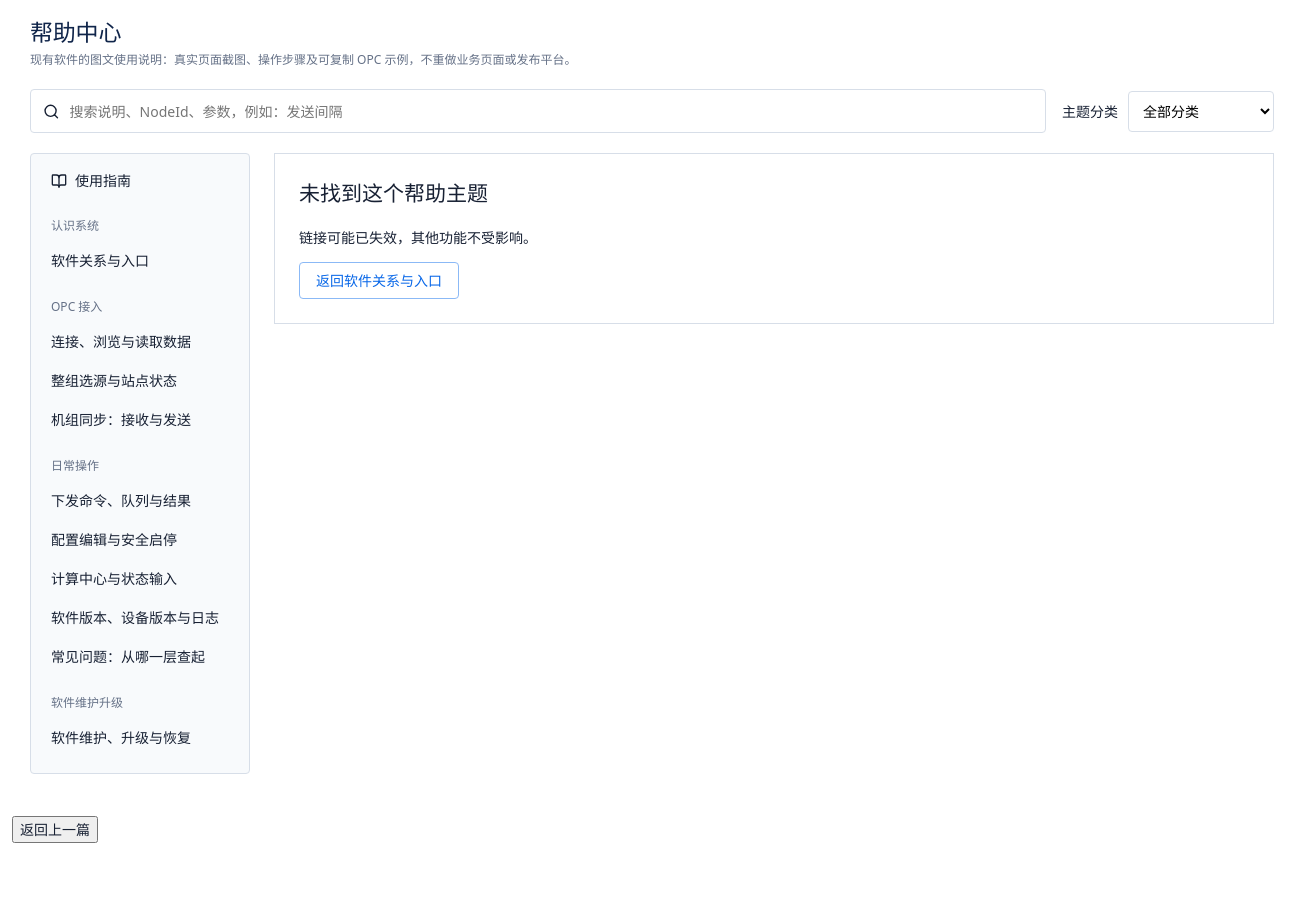
handles stale topic links without silently showing the wrong article
This screenshot has width=1292, height=900.
Expected: the heading "未找到这个帮助主题" is shown, [299,179,488,207]
Type "<img src=x onerror=alert(1)>" into the search field at (551, 111), box [70,90,1033,132]
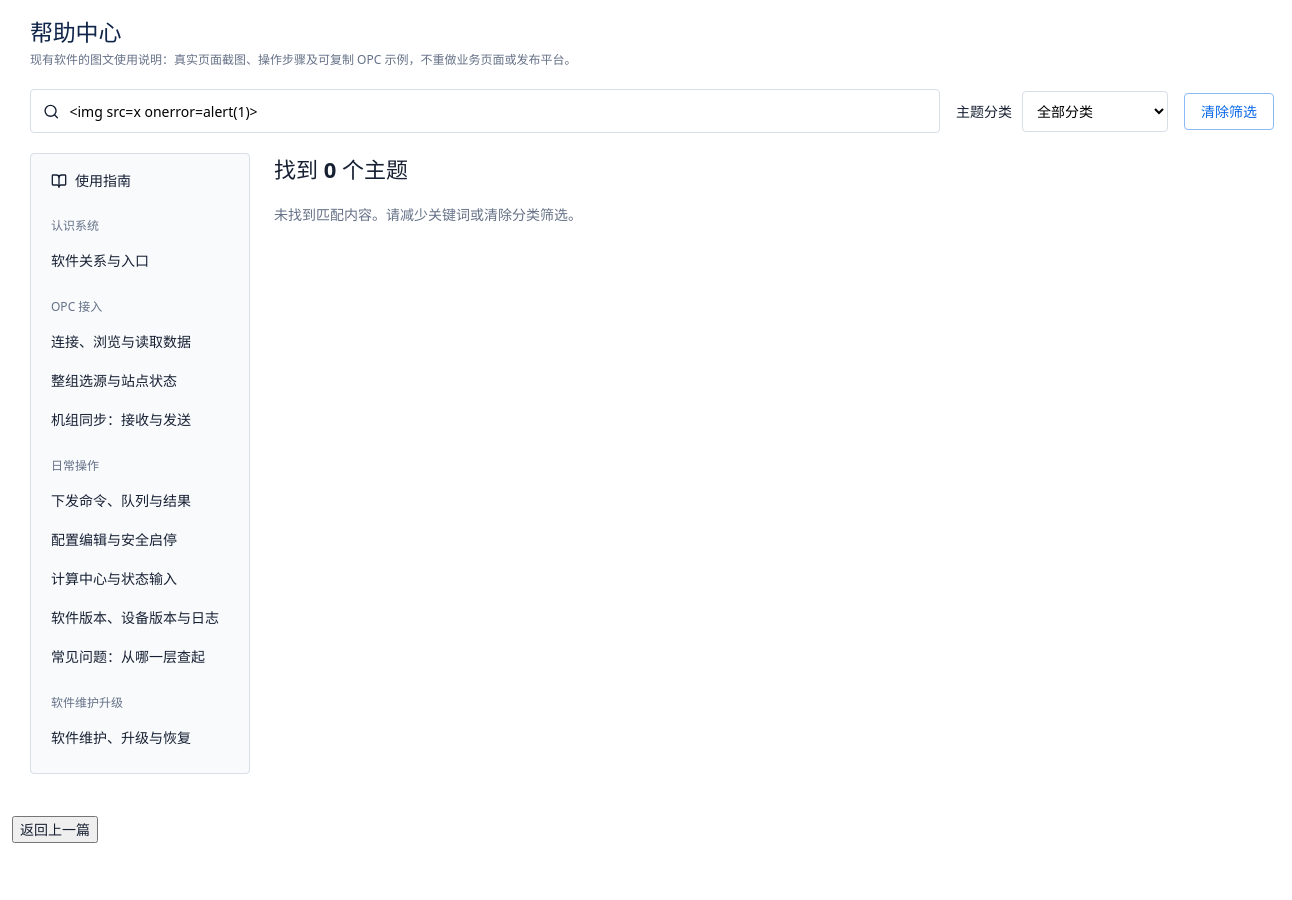
Expected: the heading "找到 0 个主题" is shown, [274,154,408,184]
